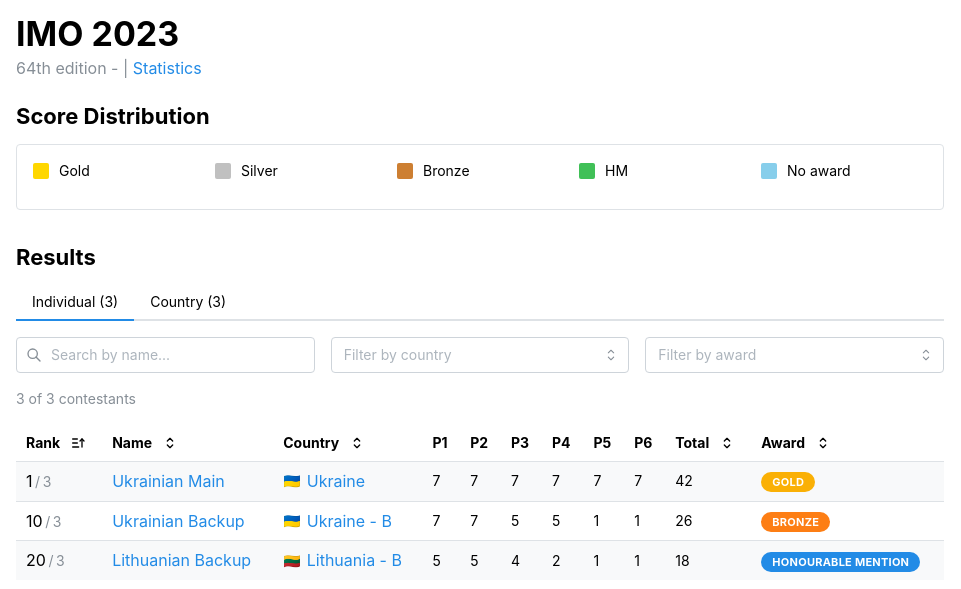
Test: Competition › team_label rendering › groups by country + team_label in the country standings tab
What coordinates should you click on to do the following:
click the tab "Country (3)"
I would click on:
 (188, 303)
Its box is x1=134 y1=285 x2=242 y2=321.
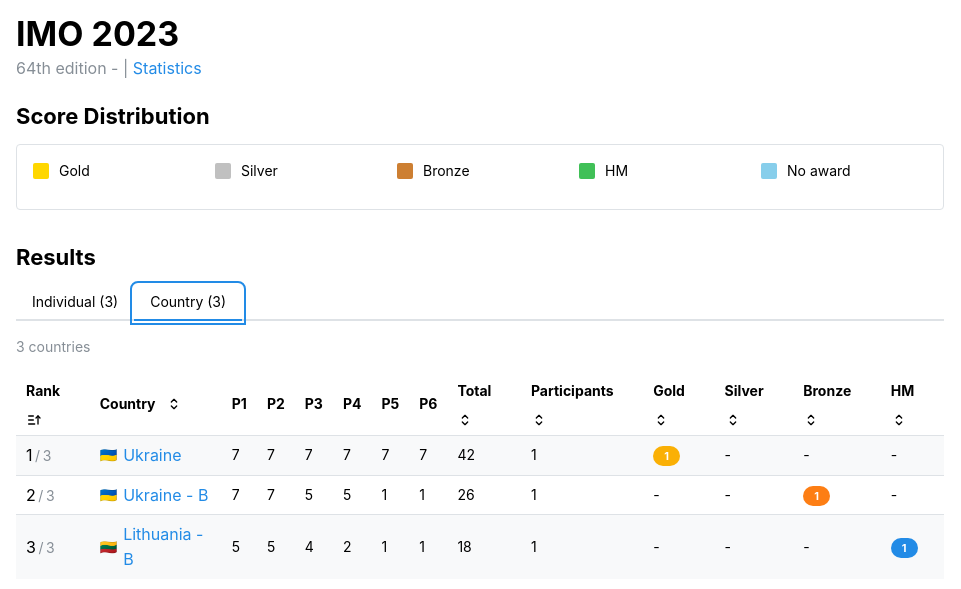
Expected: the link "🇺🇦 Ukraine" is shown, x1=100 y1=445 x2=182 y2=465
Now the text "3 countries" is shown, box x1=16 y1=338 x2=90 y2=355
